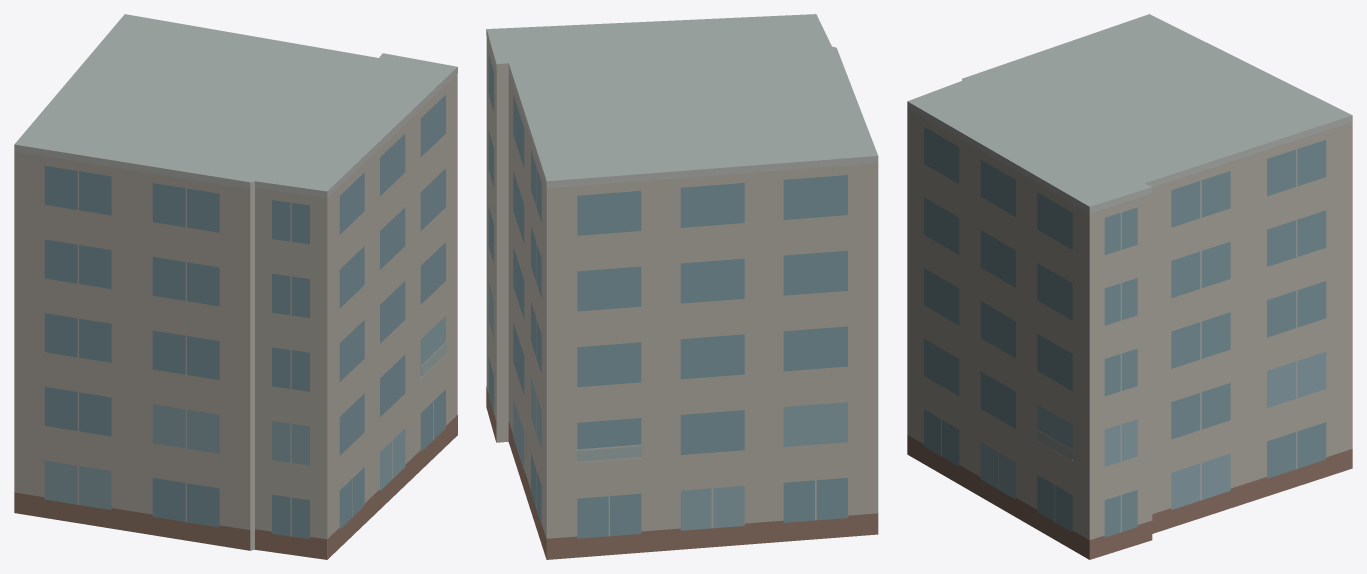
The model's file is survey-upis-32904438.glb.
The picture shows the model from 3 angles, left to right: view 1: azimuth 30°, elevation 25°; view 2: azimuth 150°, elevation 25°; view 3: azimuth 270°, elevation 25°; orthographic projection. The views are drawn at different scales.
Parts seen in each view (by area): view 1: survey-upis-32904438.tmp; view 2: survey-upis-32904438.tmp; view 3: survey-upis-32904438.tmp.
Boxes of the visible parts, x1=… form: survey-upis-32904438.tmp: x1=14, y1=14, x2=457, y2=559; survey-upis-32904438.tmp: x1=486, y1=14, x2=878, y2=559; survey-upis-32904438.tmp: x1=907, y1=14, x2=1352, y2=559.
Bounding box in the file's own units: 15.47 × 13.2 × 15.1.
